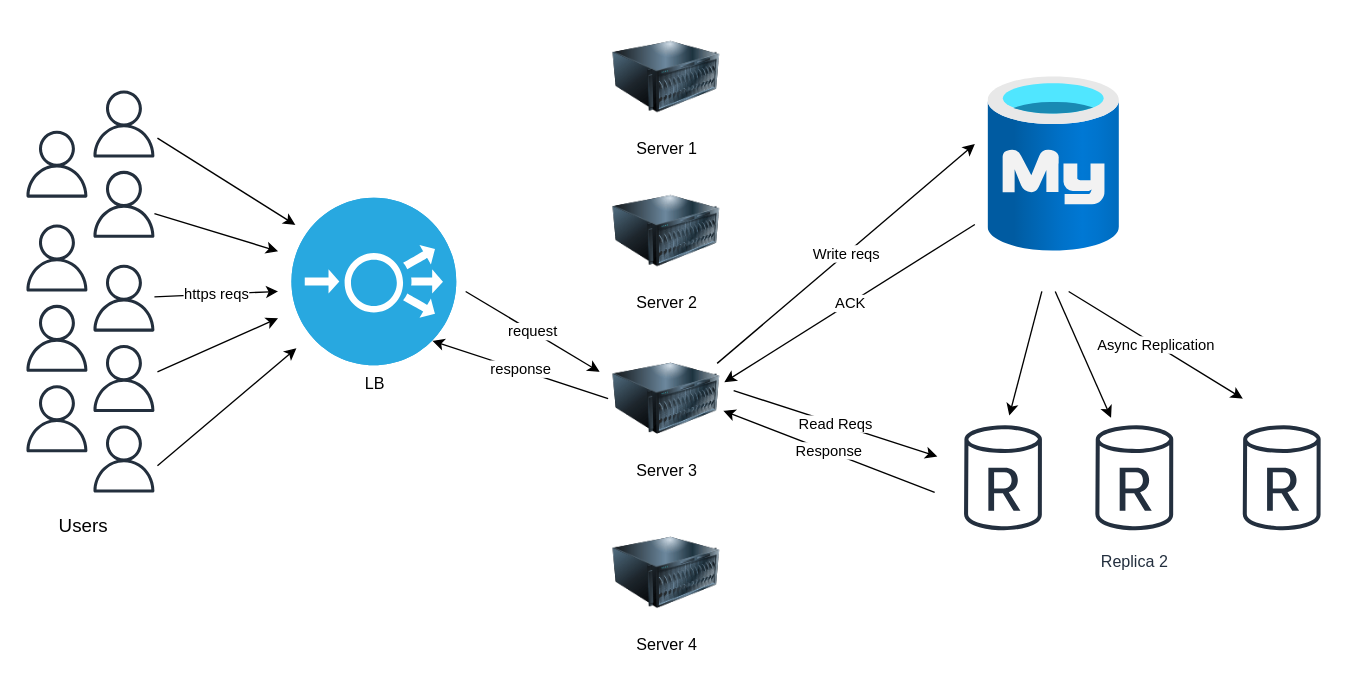
Some shapes in this 1371 by 677 pixel diagram are drawn without their labels. The centre of each missing label's shape, as x and y in pixels:
Primary DB: the point at 1053,163
Replica 1: the point at 1002,477
Replica 3: the point at 1281,477
